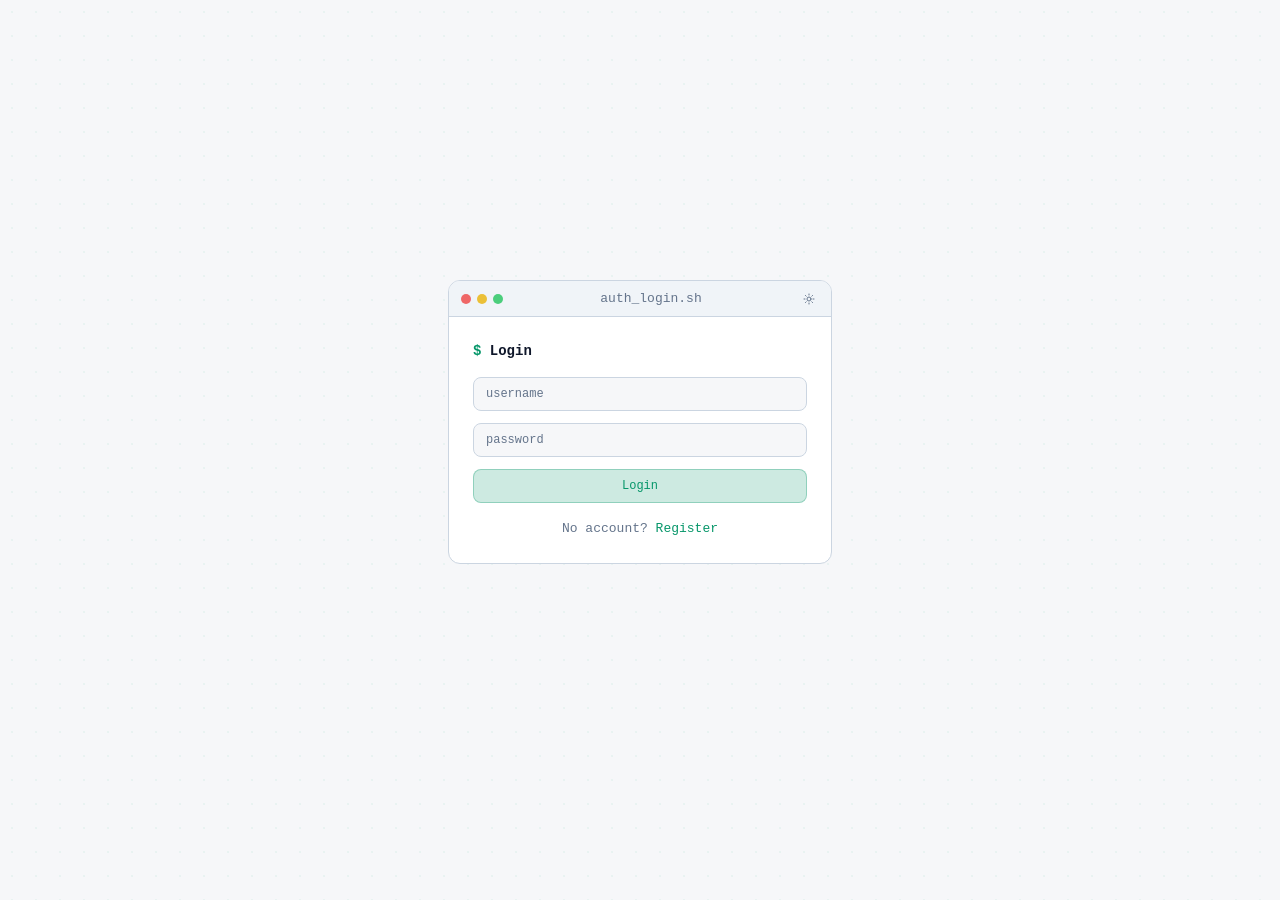
Scenario: LoginPage › keeps a fallback for a failure with no server message
Type "shing" into the field with placeholder "username". click: (640, 394)
box: 473,377 -> 807,411
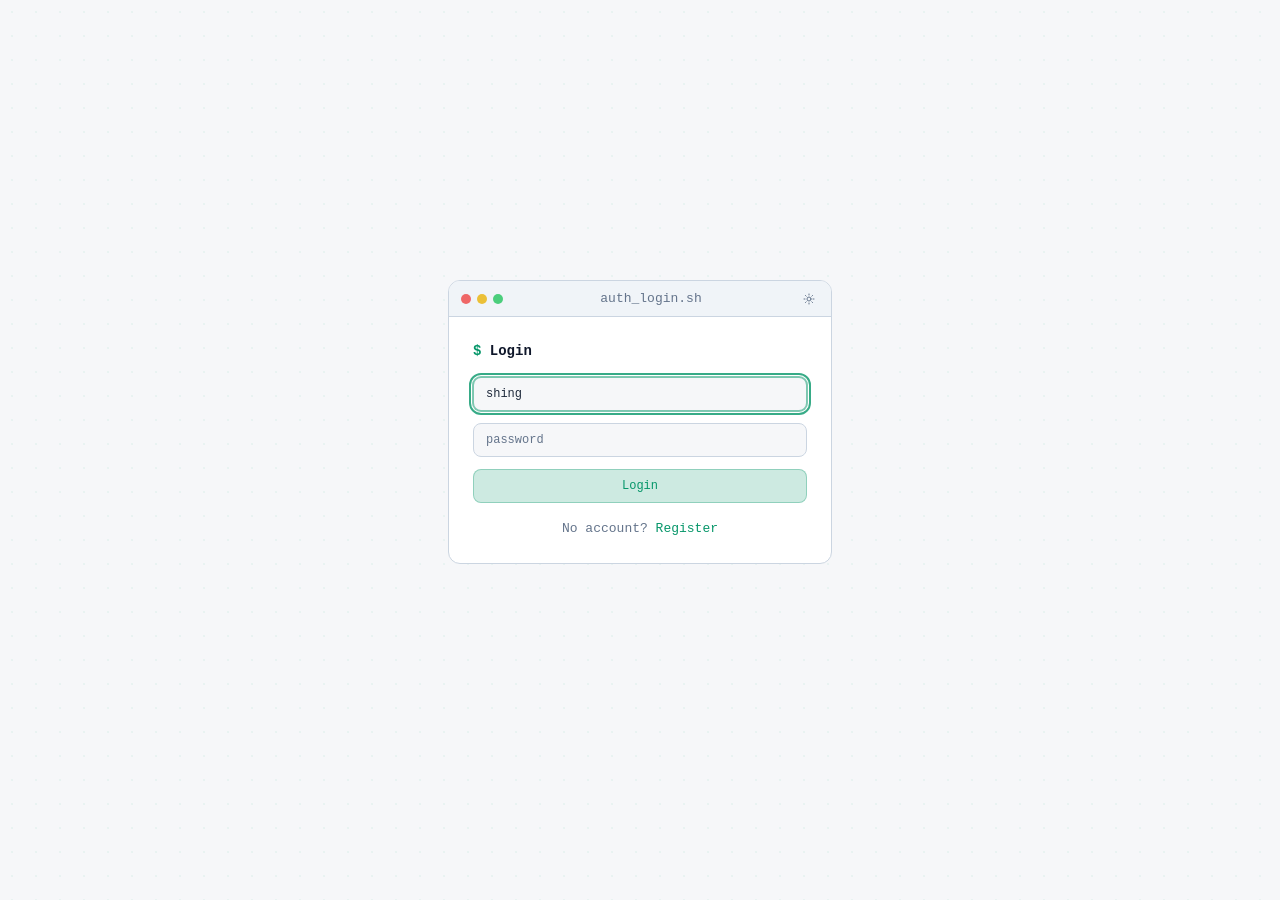
Type "wrongpassword" into the password field with placeholder "password". click: (640, 440)
box: 473,423 -> 807,457
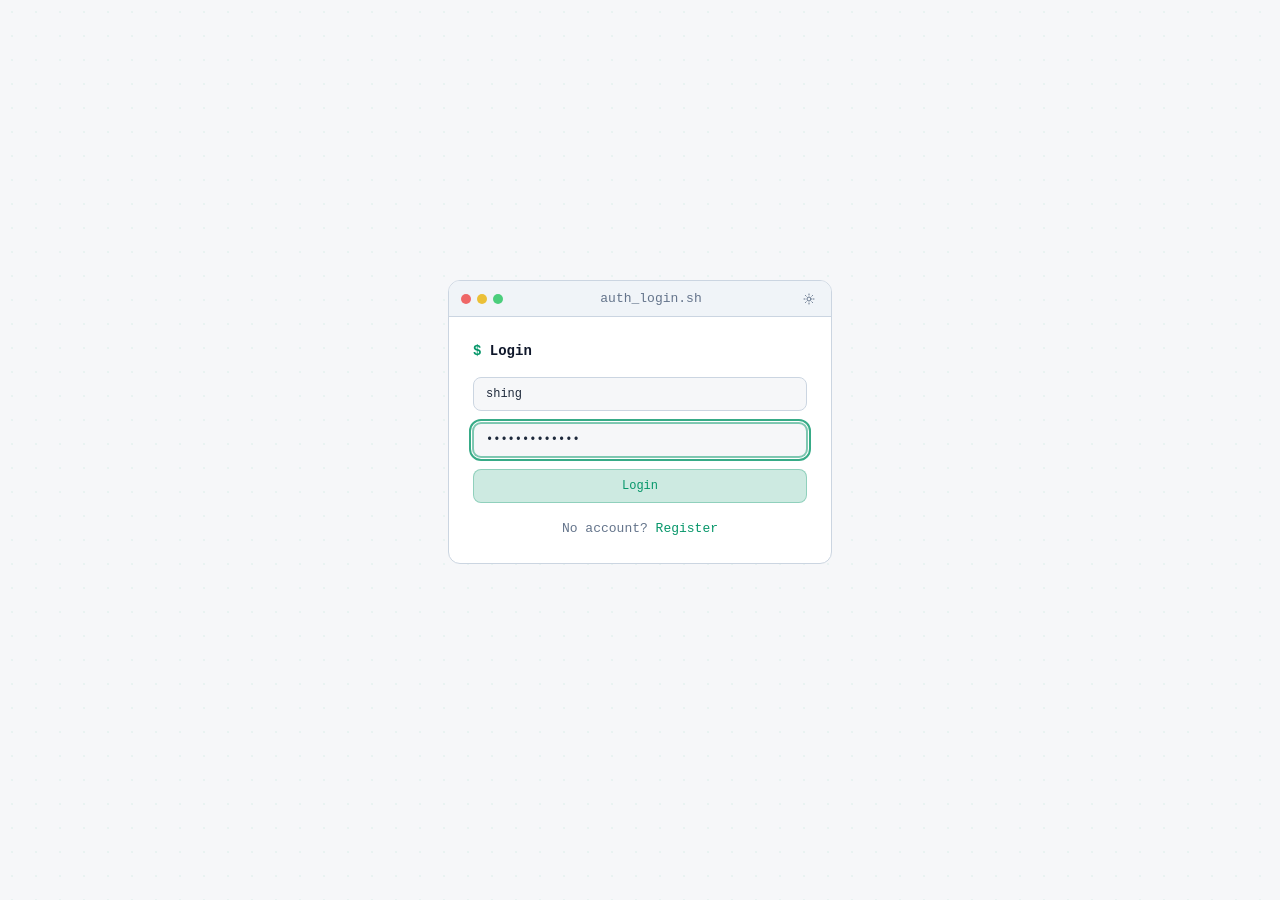
Click the button "Login". click: (640, 486)
box: 473,469 -> 807,503
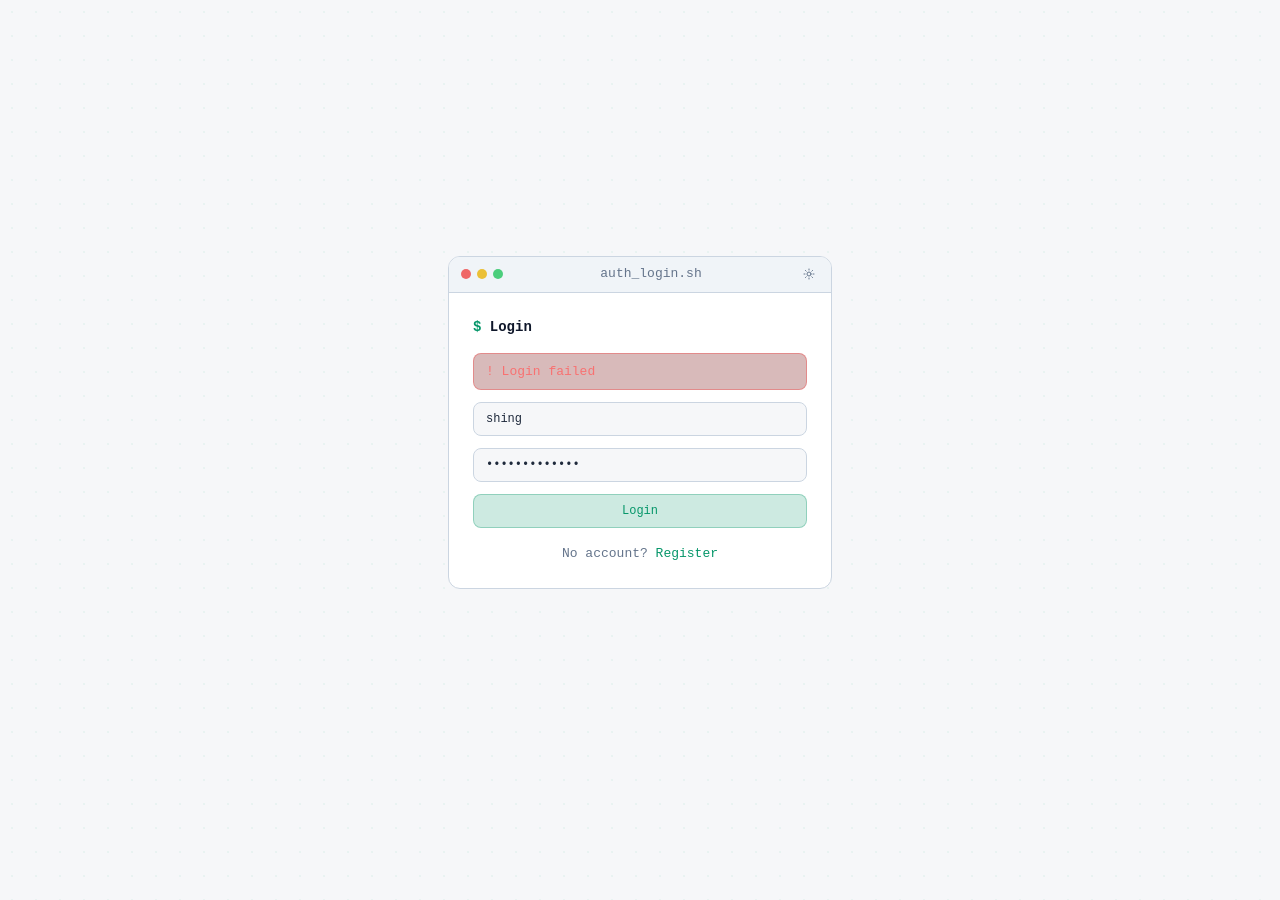
expect the text "! Login failed" is shown: met, box 473,352 -> 807,390
